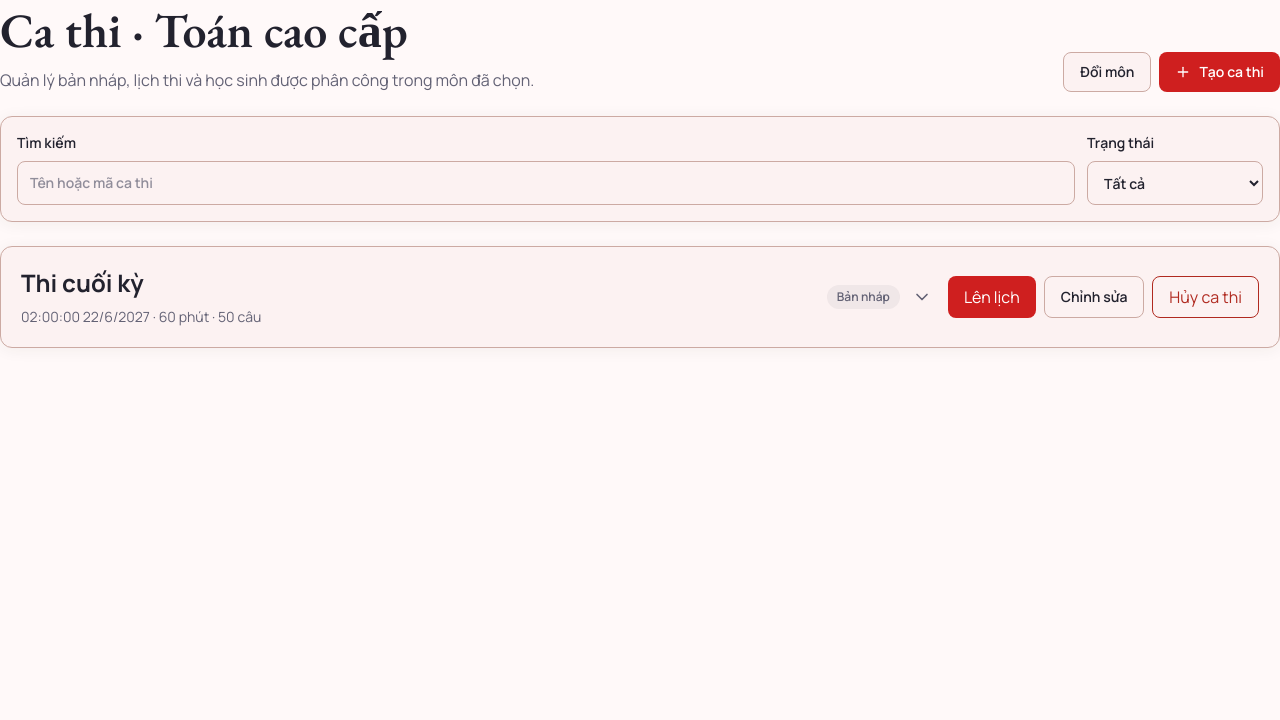
Test: SubjectExamListPage › keeps the draft after a 404 scheduling failure
Click the button "Lên lịch": (992, 297) [948,276,1036,318]
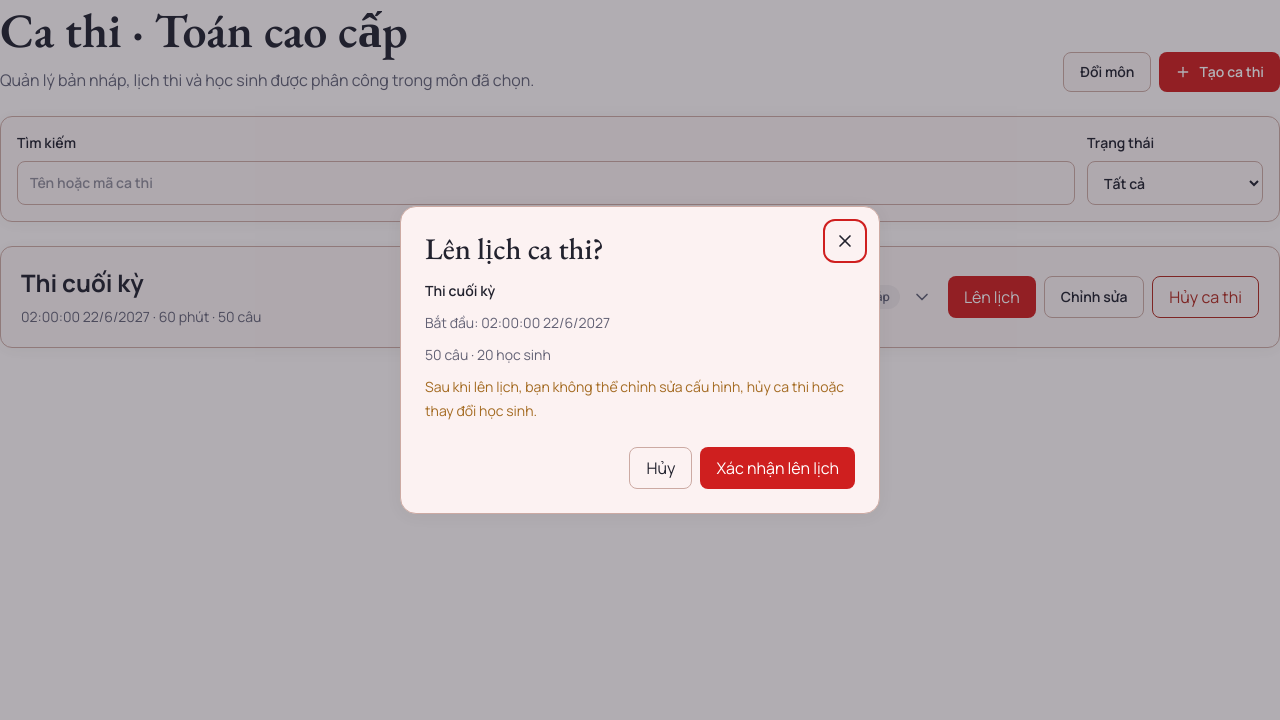
Click the button "Xác nhận lên lịch": (778, 468) [700,447,855,489]
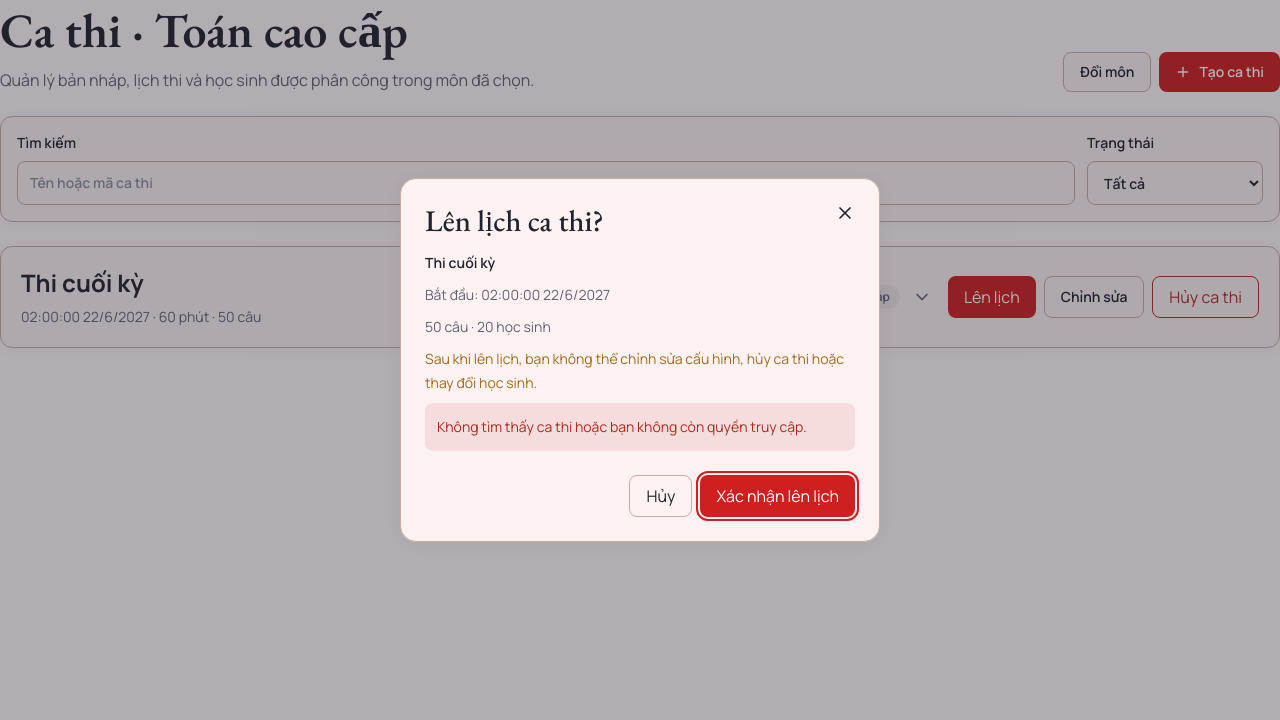
Check: the message shows "Không tìm thấy ca thi", box [437,417,806,436]
